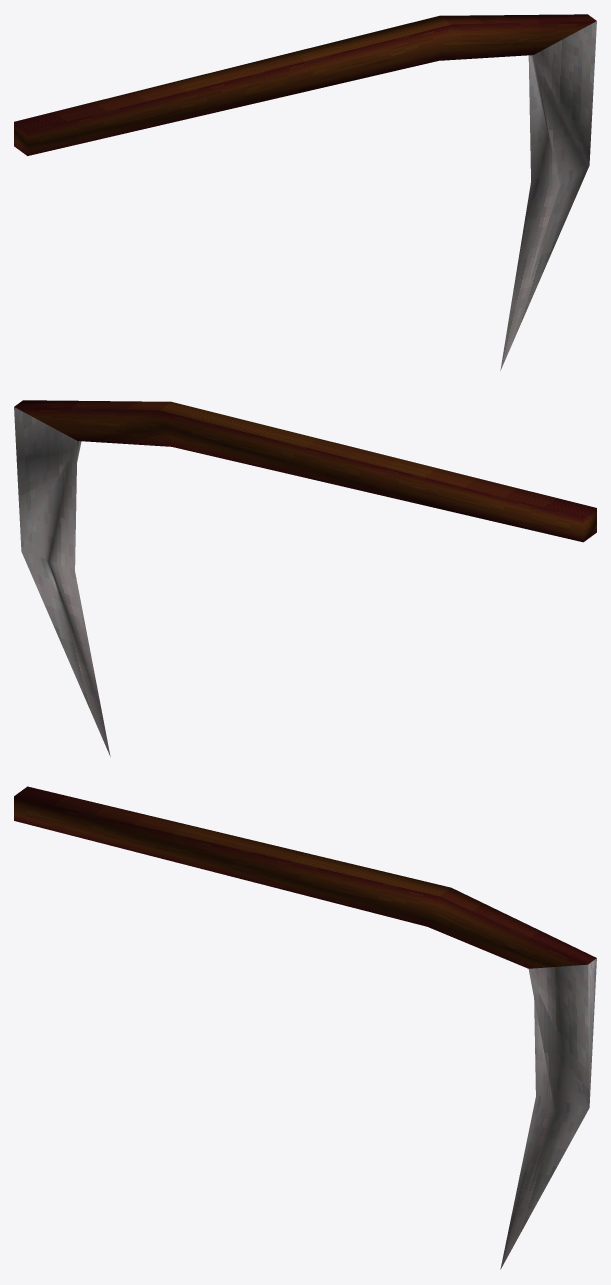
3 renders of one model, top to bottom at view 1: azimuth 30°, elevation 25°; view 2: azimuth 150°, elevation 25°; view 3: azimuth 330°, elevation 25°, orthographic.
Visible parts, largest first — view 1: it40; view 2: it40; view 3: it40.
Boxes of the visible parts, x1,y1,x2,y2 form: it40: (14, 14, 596, 370); it40: (14, 400, 596, 756); it40: (14, 786, 596, 1269).
Size of the model in its own units: 4.25 by 2.59 by 0.1738.
2 materials, 2 textured.
